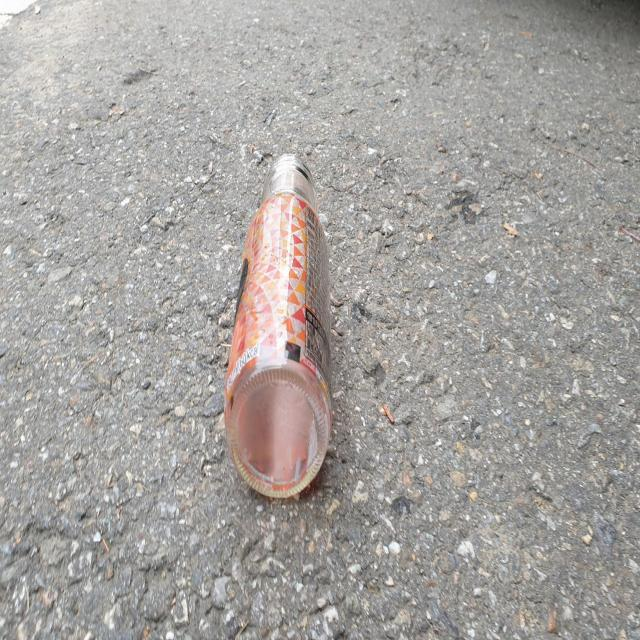glass: (225, 155, 332, 497)
